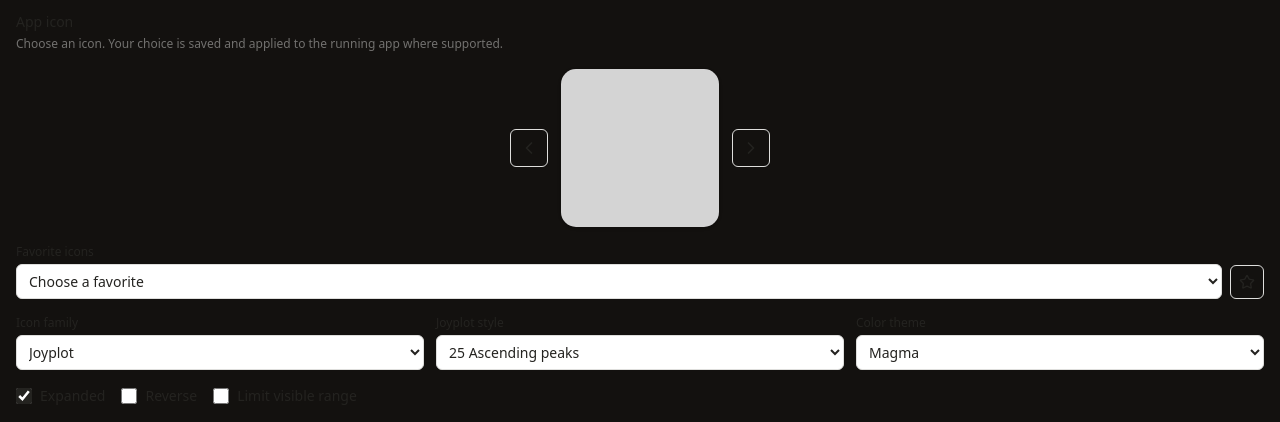
Scenario: AppIconGallery › expands only Joyplot artwork and remembers the size across families
Expected: the dropdown with test id "settings-app-icon-style" is shown, [436,335,844,370]
Click the checkbox with test id "settings-app-icon-expanded" at (24, 396), box [16,388,32,404]
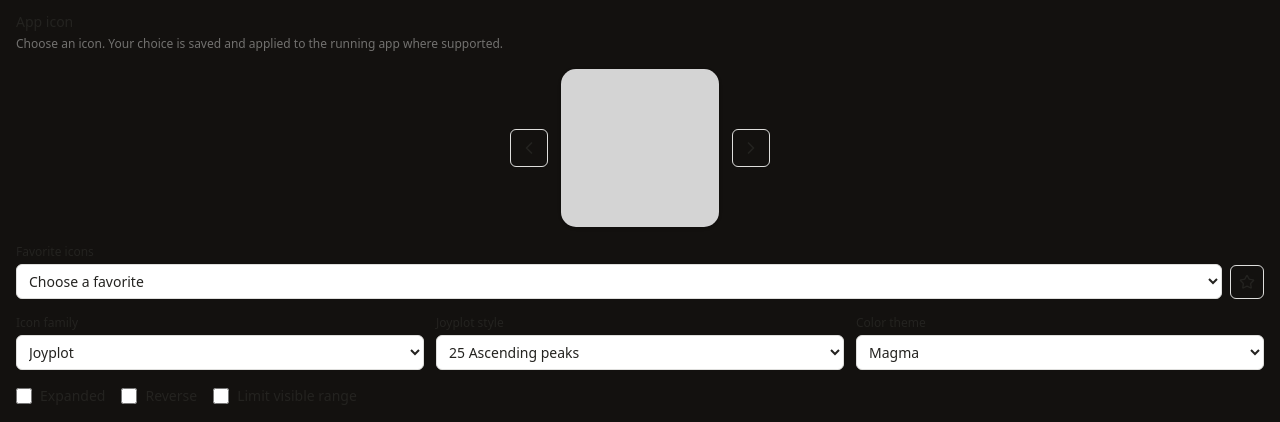
Expected: the checkbox with test id "settings-app-icon-expanded" is not checked
Click the checkbox with test id "settings-app-icon-expanded" at (24, 396), box [16,388,32,404]
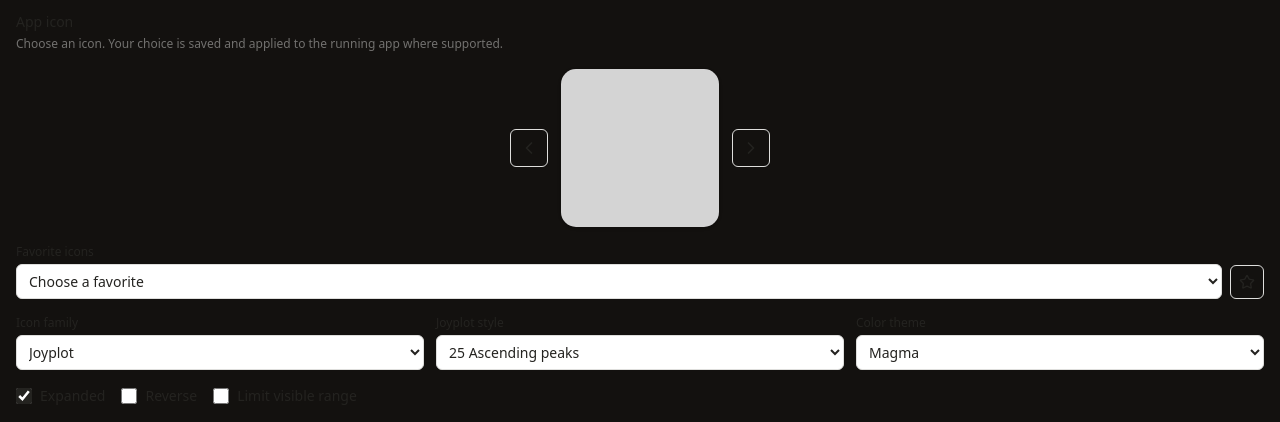
Select "26 Descending peaks" in the dropdown with test id "settings-app-icon-style" at (640, 352), box [436,335,844,370]
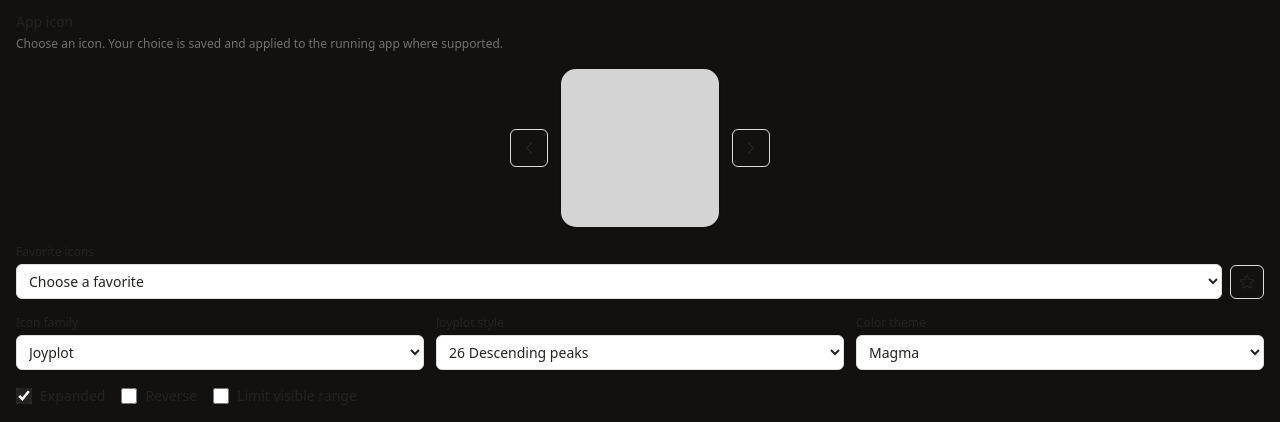
Select "Pi Lab" in the dropdown with test id "settings-app-icon-family" at (220, 352), box [16,335,424,370]
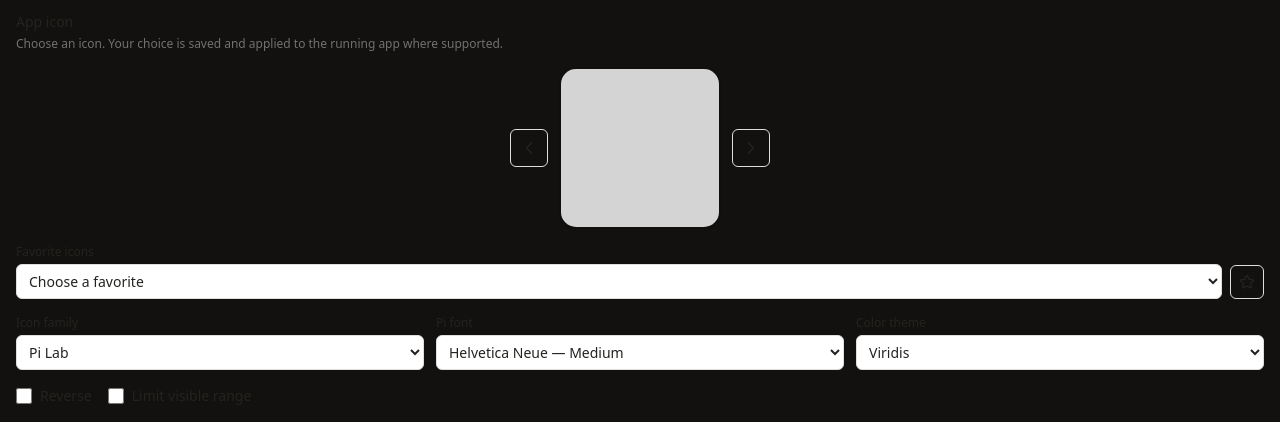
Expected: the checkbox with test id "settings-app-icon-expanded" is gone
Select "Joyplot" in the dropdown with test id "settings-app-icon-family" at (220, 352), box [16,335,424,370]
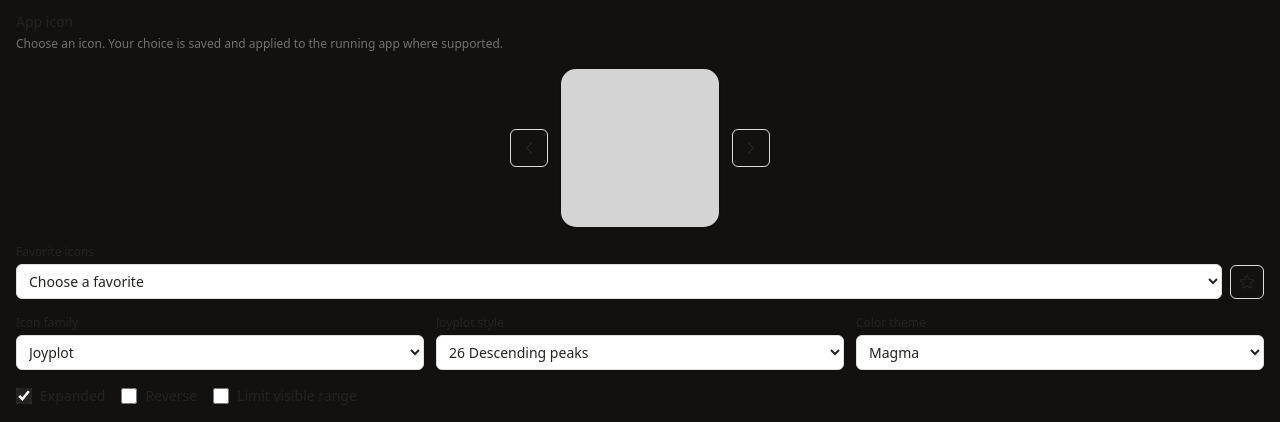
Expected: the checkbox with test id "settings-app-icon-expanded" is checked, [16,388,32,404]
